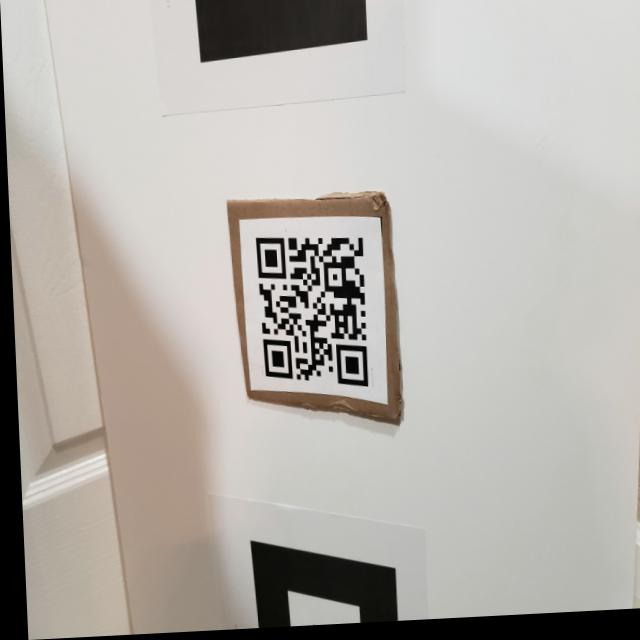QR_CODE: (244, 220, 379, 405)
